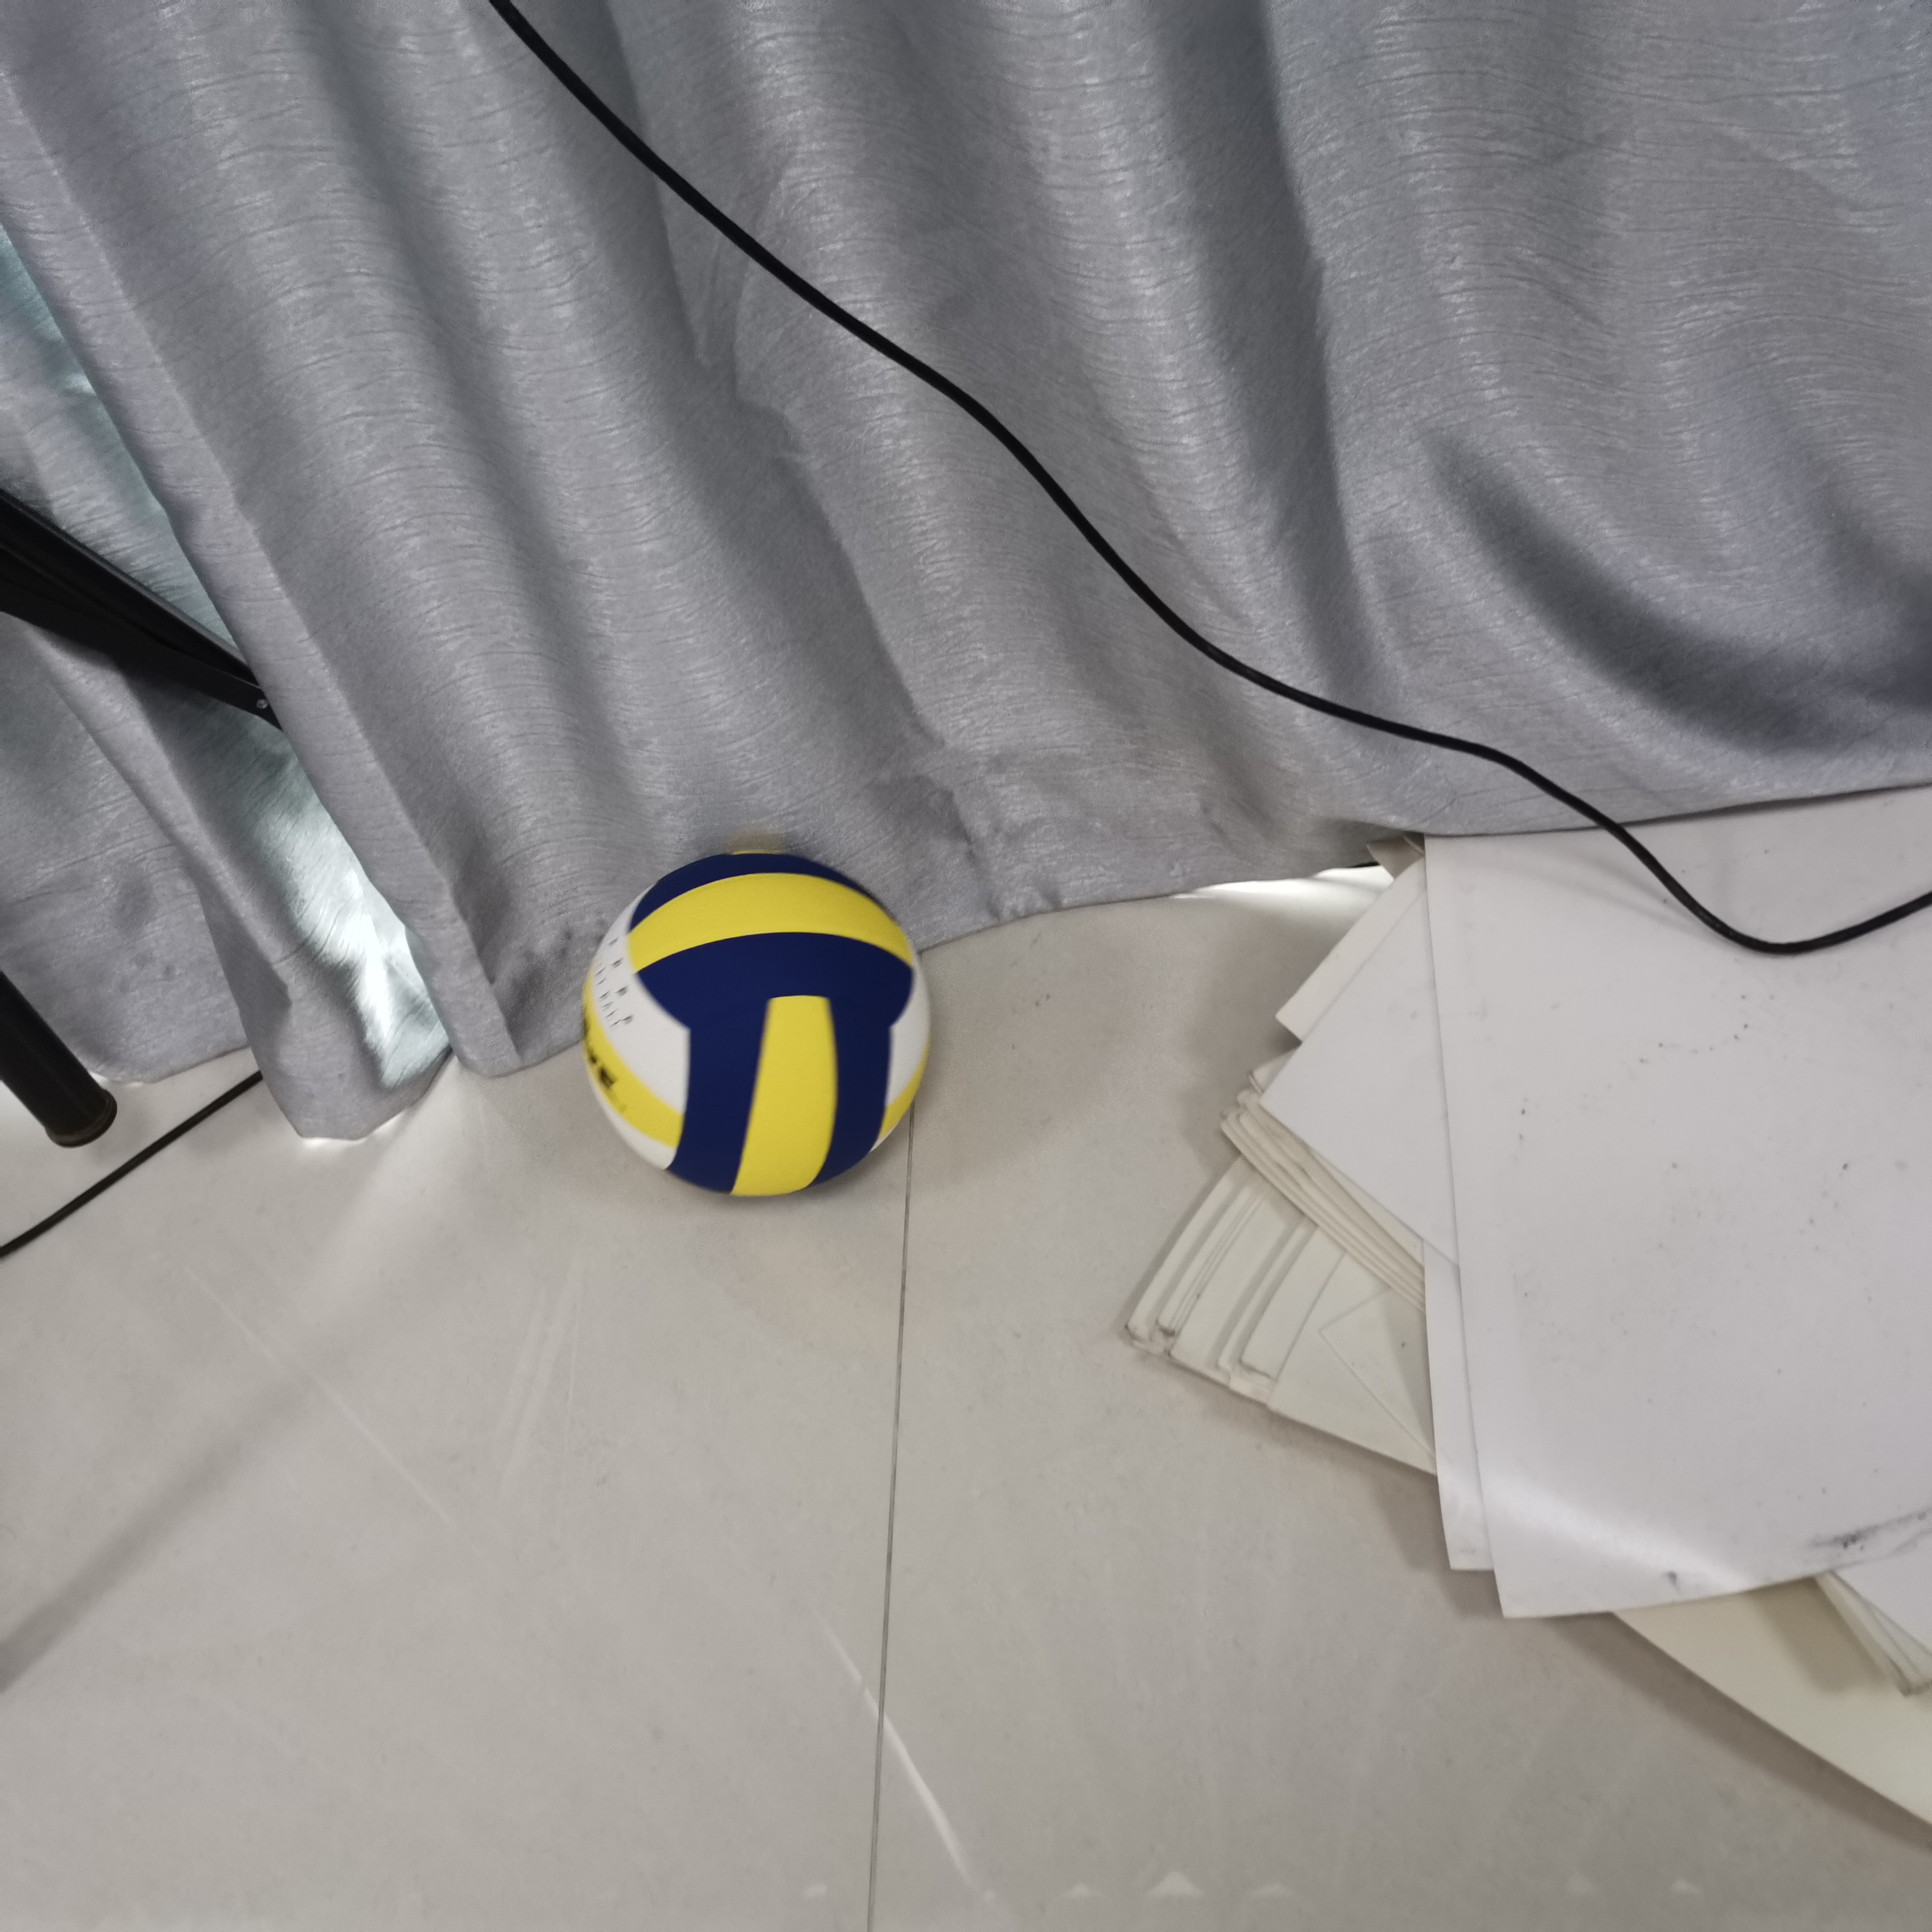volleyball: (586, 846, 931, 1203)
